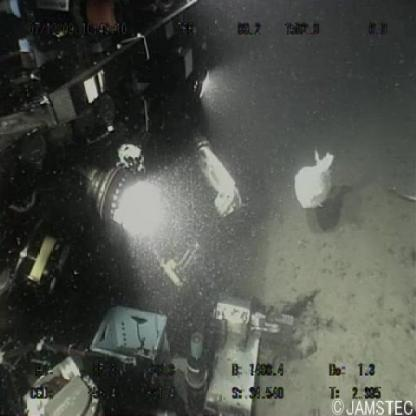Rov: (1, 1, 328, 414)
Rác: (289, 144, 339, 214)
